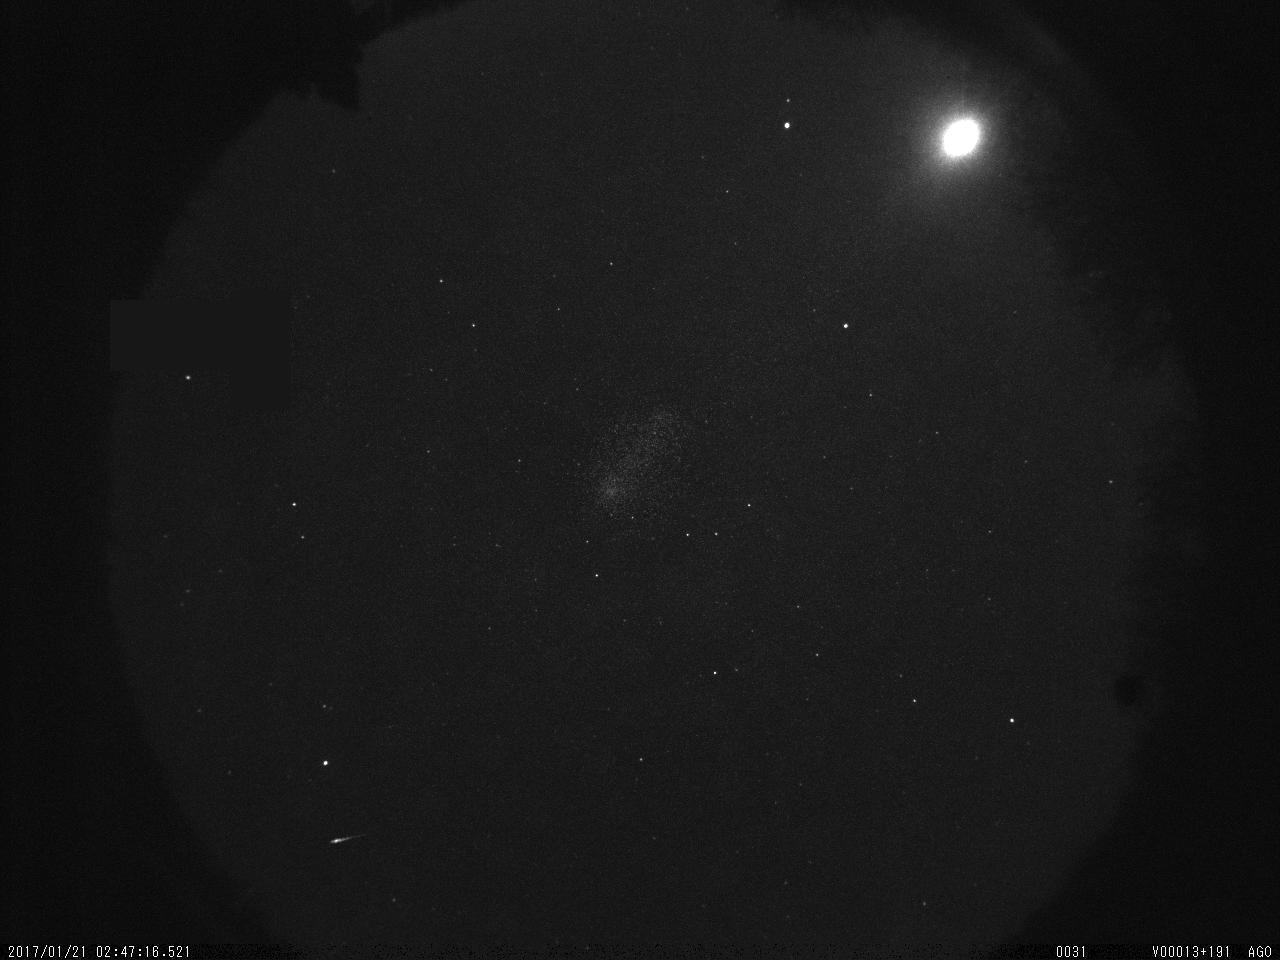meteor: (307, 821, 406, 866)
